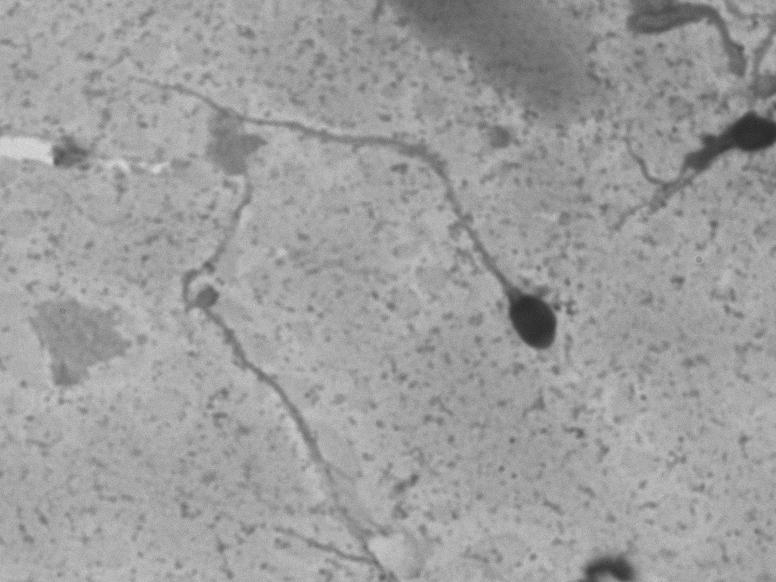Normal: (114, 68, 577, 369)
